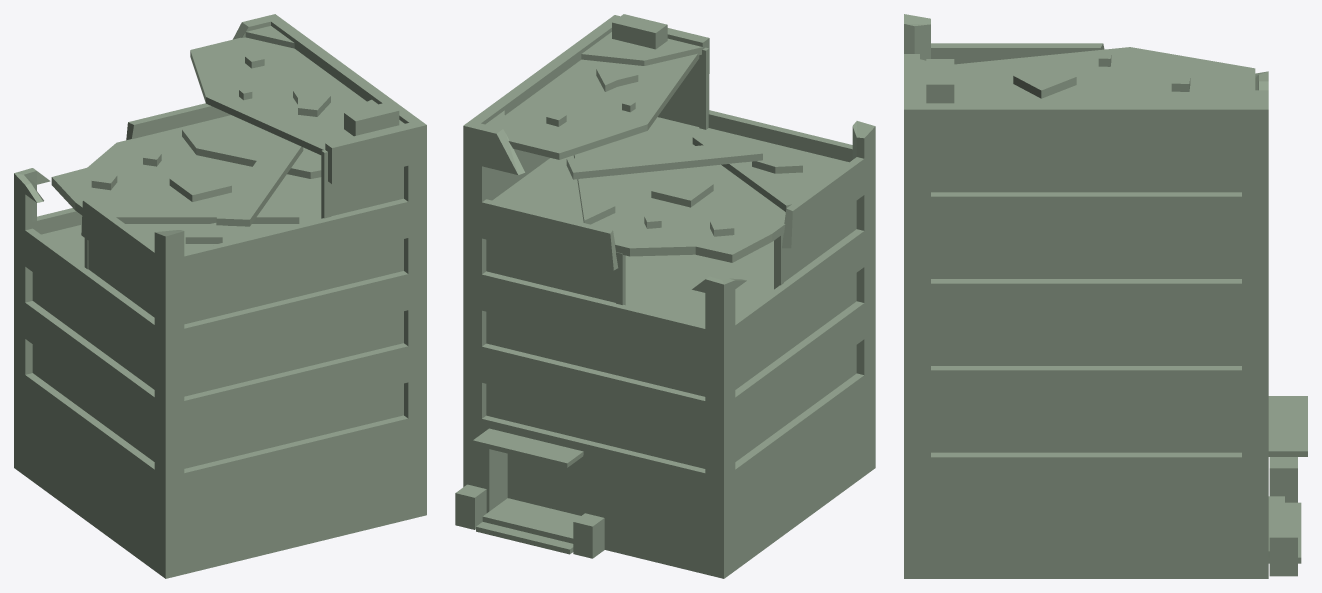
File: office_damaged_02.fbx
3 views of the same model, side by side, from view 1: azimuth 30°, elevation 25°; view 2: azimuth 150°, elevation 25°; view 3: azimuth 270°, elevation 25° (orthographic). The views are drawn at different scales.
Visible parts, largest first — view 1: office_damaged_02; view 2: office_damaged_02; view 3: office_damaged_02.
Part boxes in pixels (bbox=[...]): office_damaged_02: bbox=[14, 14, 426, 578]; office_damaged_02: bbox=[455, 14, 875, 578]; office_damaged_02: bbox=[904, 14, 1307, 578].
Bounding box in the file's own units: 13.62 × 20.04 × 15.17.
